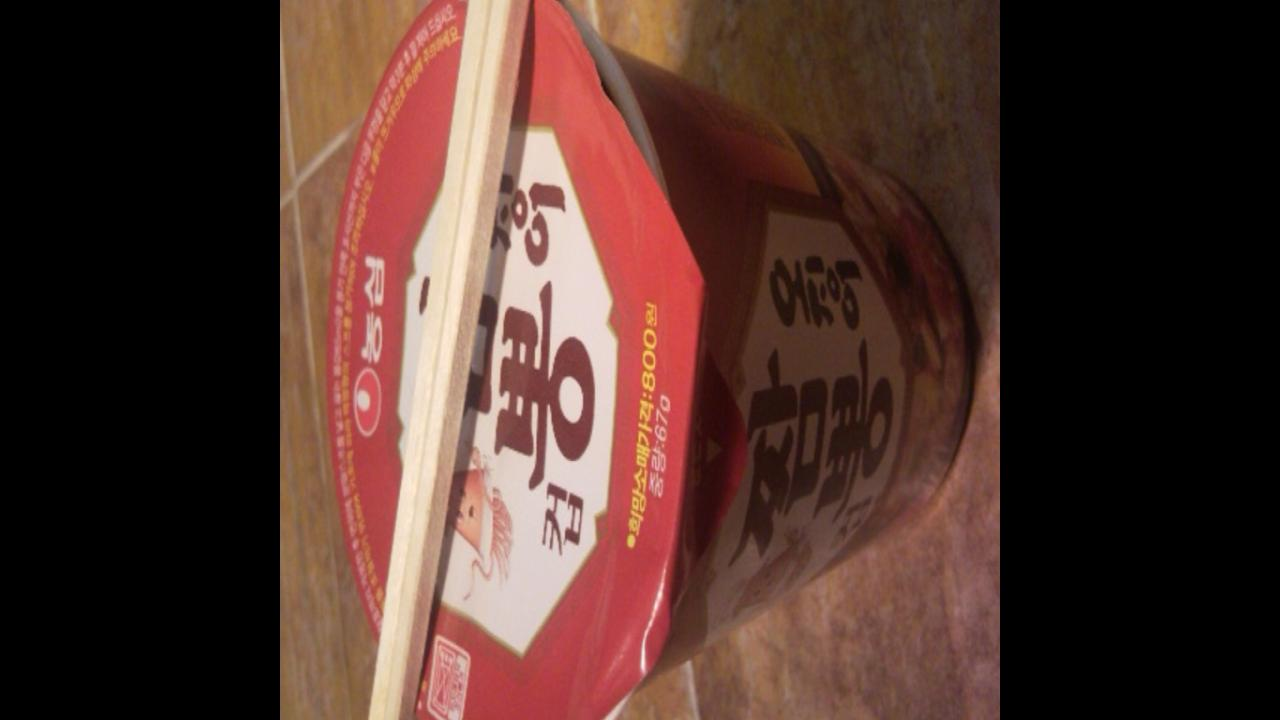chopstick: (338, 0, 574, 720)
